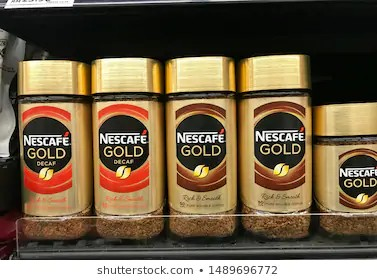nescafe-classic/gold-big: (238, 53, 312, 237), (91, 57, 164, 239), (19, 60, 91, 238), (167, 55, 236, 238)
nescafe-classic/gold-med: (318, 104, 377, 239)
